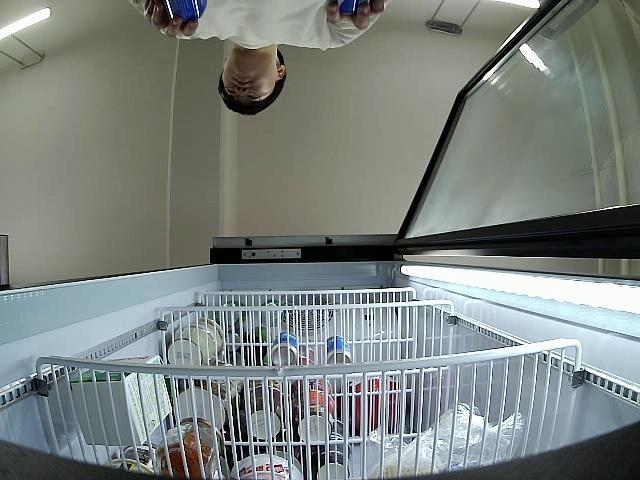13_pocariSweat: (152, 0, 208, 29), (331, 0, 372, 16)
